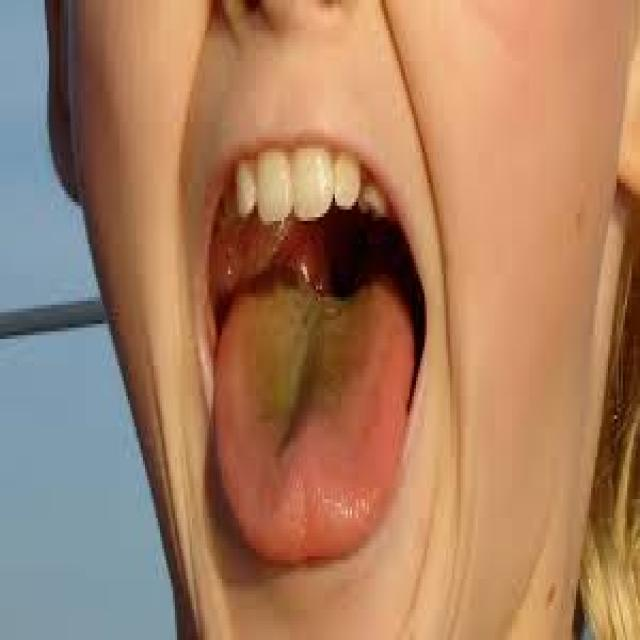discolored_patch: (234, 268, 387, 534)
